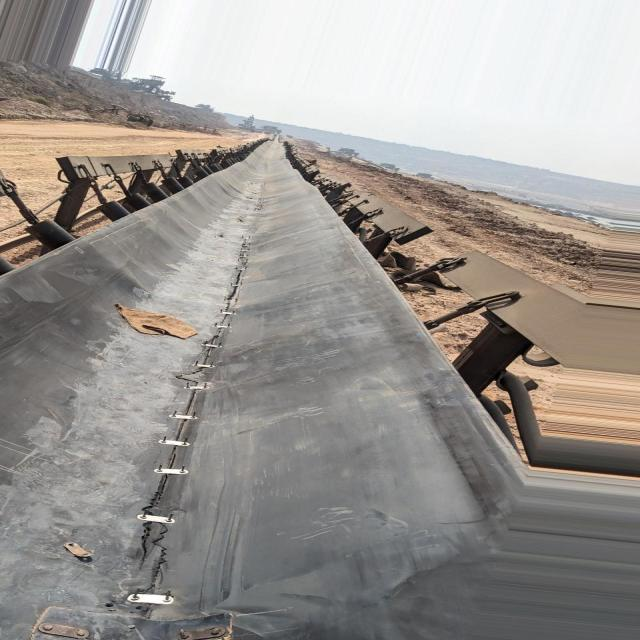Other Objects: (117, 307, 198, 340)
Roller: (101, 159, 231, 222), (23, 217, 77, 252)
patch work: (98, 253, 249, 615), (27, 607, 231, 640)
